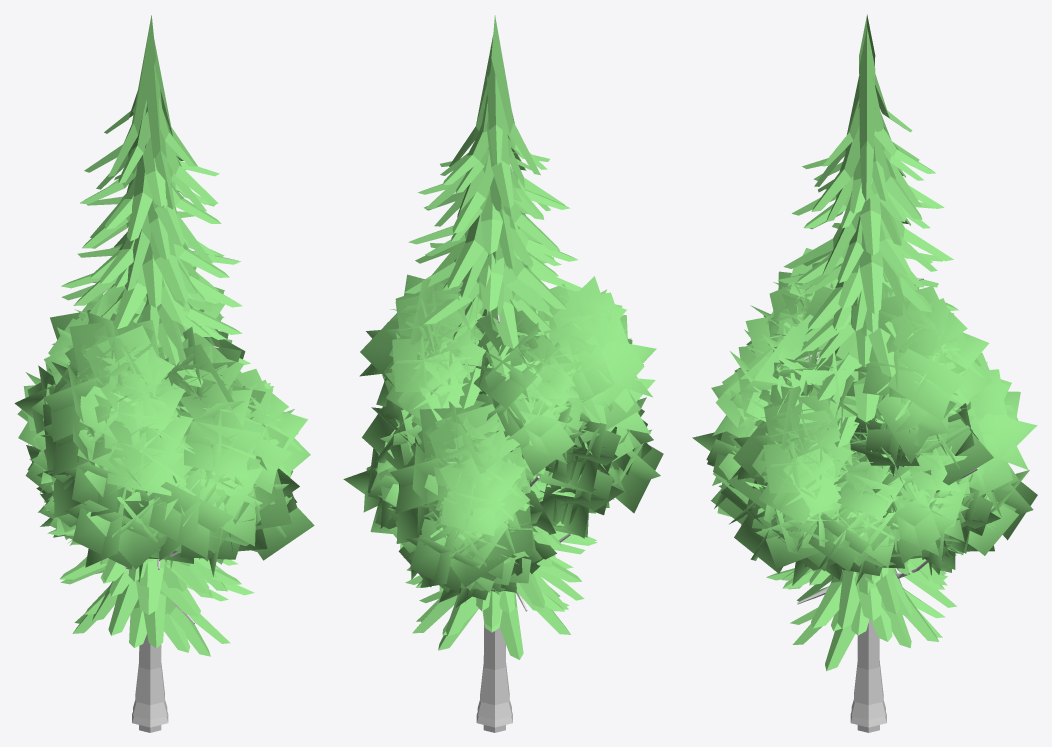
The model's file is Trees.fbx.
The picture shows the model from 3 angles, left to right: view 1: azimuth 30°, elevation 25°; view 2: azimuth 150°, elevation 25°; view 3: azimuth 270°, elevation 25°; orthographic projection.
Parts seen in each view (by area): view 1: Deciduous Tree 2 LOD 0, Deciduous Tree 1 LOD 0, Old Pine 2 LOD 0, Deciduous Tree 3 LOD 0, Old Pine 1 LOD 0, Old Pine 3 LOD 0; view 2: Deciduous Tree 2 LOD 0, Old Pine 2 LOD 0, Deciduous Tree 1 LOD 0, Deciduous Tree 3 LOD 0, Old Pine 1 LOD 0, Old Pine 3 LOD 0; view 3: Deciduous Tree 2 LOD 0, Old Pine 2 LOD 0, Deciduous Tree 1 LOD 0, Deciduous Tree 3 LOD 0, Old Pine 1 LOD 0, Old Pine 3 LOD 0.
Boxes of the visible parts, bbox=[...] form: Deciduous Tree 2 LOD 0: bbox=[17, 251, 314, 705]; Deciduous Tree 1 LOD 0: bbox=[14, 285, 299, 727]; Old Pine 2 LOD 0: bbox=[46, 15, 250, 510]; Deciduous Tree 3 LOD 0: bbox=[38, 346, 293, 719]; Old Pine 1 LOD 0: bbox=[47, 237, 254, 732]; Old Pine 3 LOD 0: bbox=[74, 558, 230, 656]; Deciduous Tree 2 LOD 0: bbox=[359, 274, 656, 705]; Old Pine 2 LOD 0: bbox=[402, 15, 581, 545]; Deciduous Tree 1 LOD 0: bbox=[343, 299, 590, 727]; Deciduous Tree 3 LOD 0: bbox=[398, 330, 663, 719]; Old Pine 1 LOD 0: bbox=[403, 241, 597, 732]; Old Pine 3 LOD 0: bbox=[416, 480, 573, 659]; Deciduous Tree 2 LOD 0: bbox=[731, 248, 1037, 705]; Old Pine 2 LOD 0: bbox=[771, 14, 958, 540]; Deciduous Tree 1 LOD 0: bbox=[692, 286, 1016, 727]; Deciduous Tree 3 LOD 0: bbox=[734, 302, 1018, 719]; Old Pine 1 LOD 0: bbox=[766, 250, 957, 732]; Old Pine 3 LOD 0: bbox=[790, 560, 945, 671].
Size of what is drawn, in the model's own units: 1335 by 3566 by 1566.
